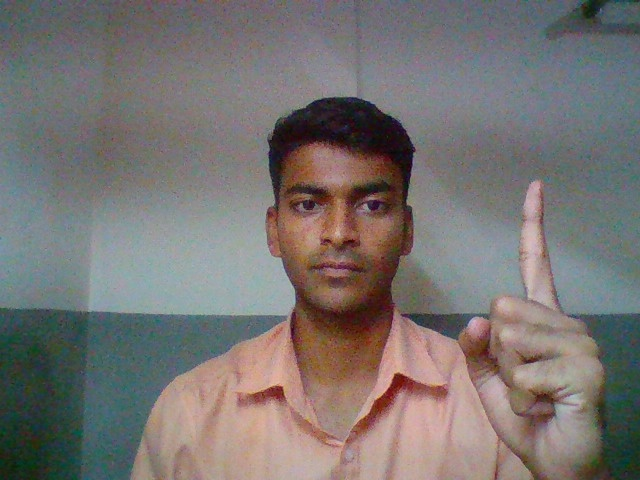I: (444, 169, 615, 480)
